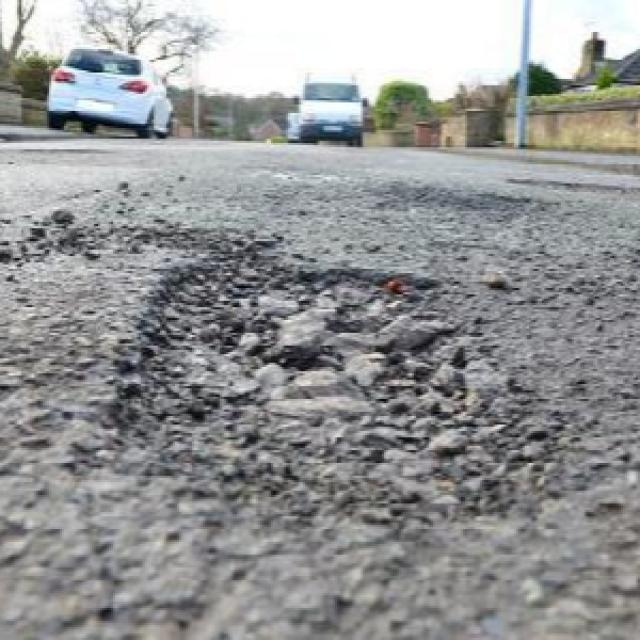pothole: (91, 238, 575, 550)
